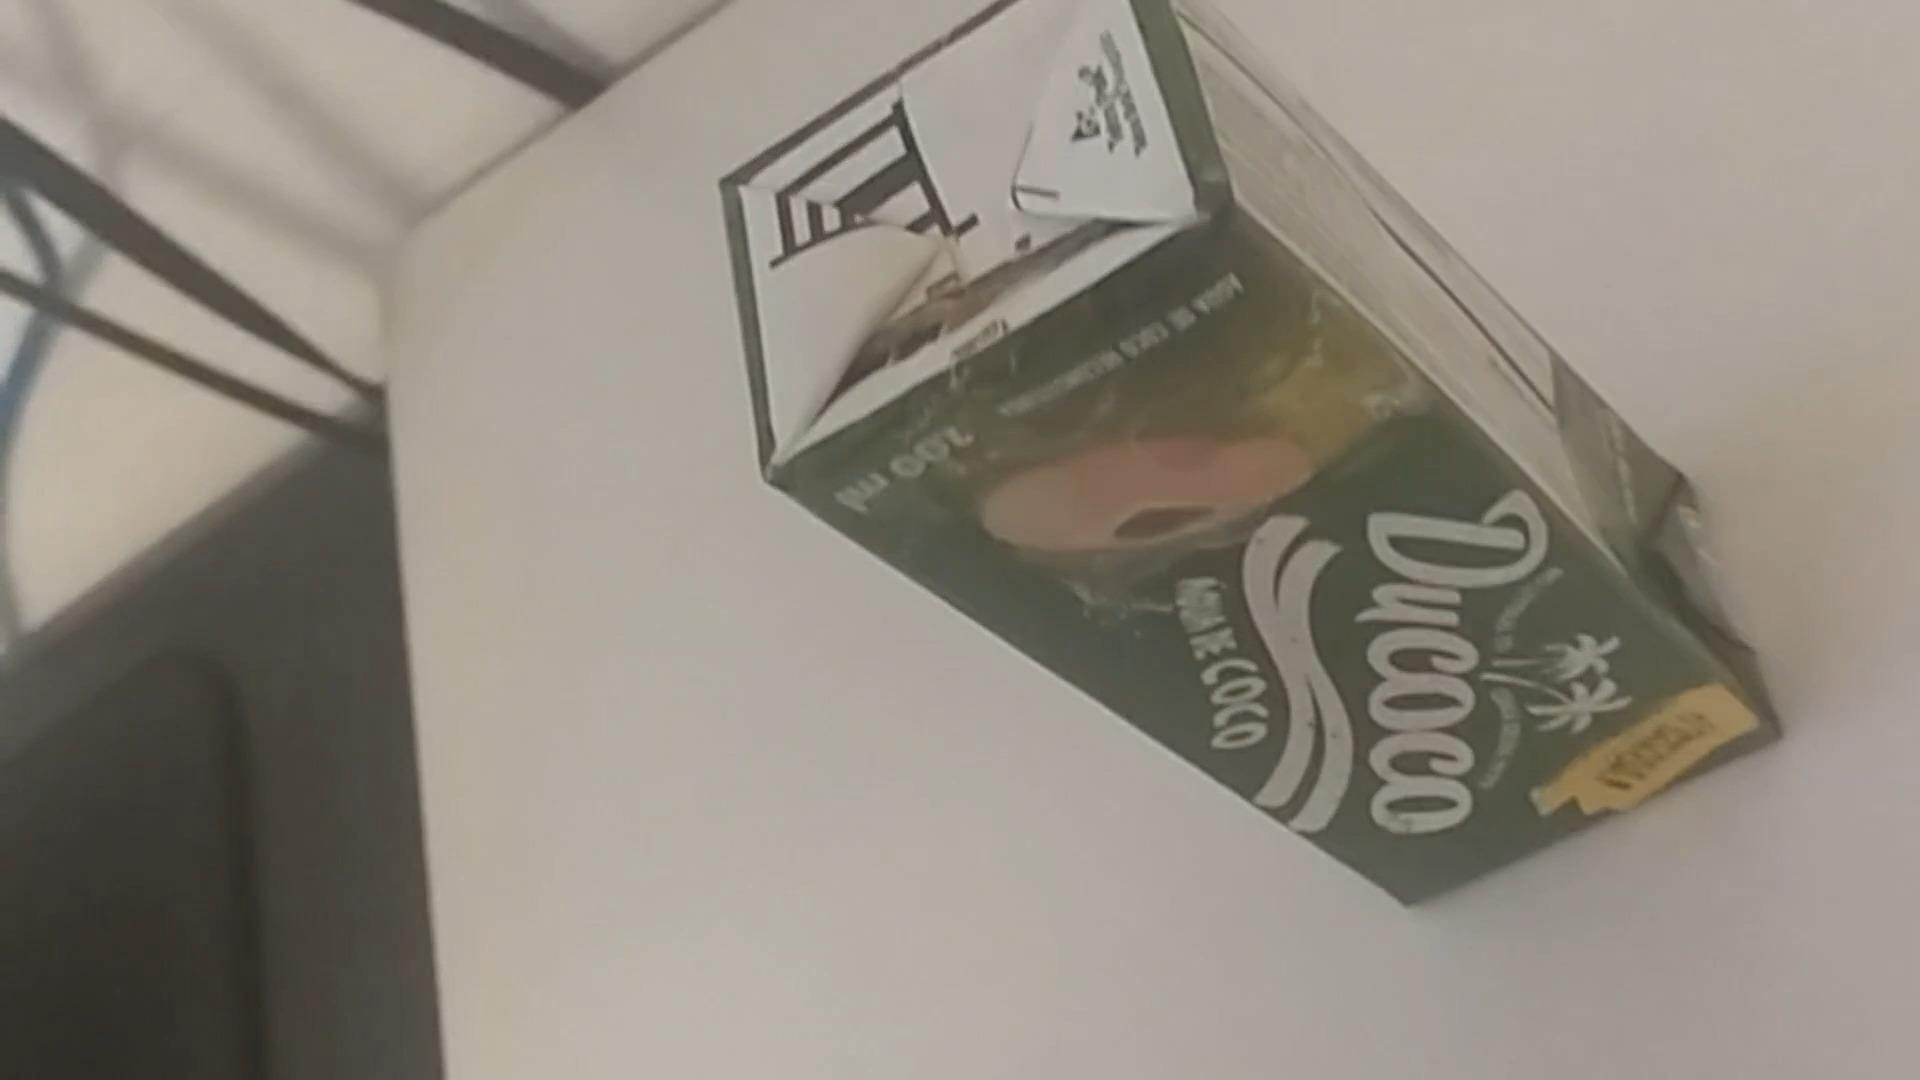coco: (727, 3, 1772, 913)
